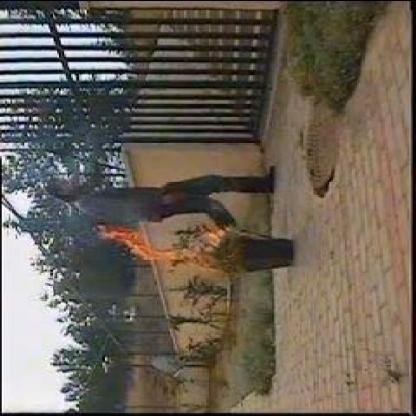foggia-v2-map80-epoch100 - v1 4323: (104, 224, 220, 266)
